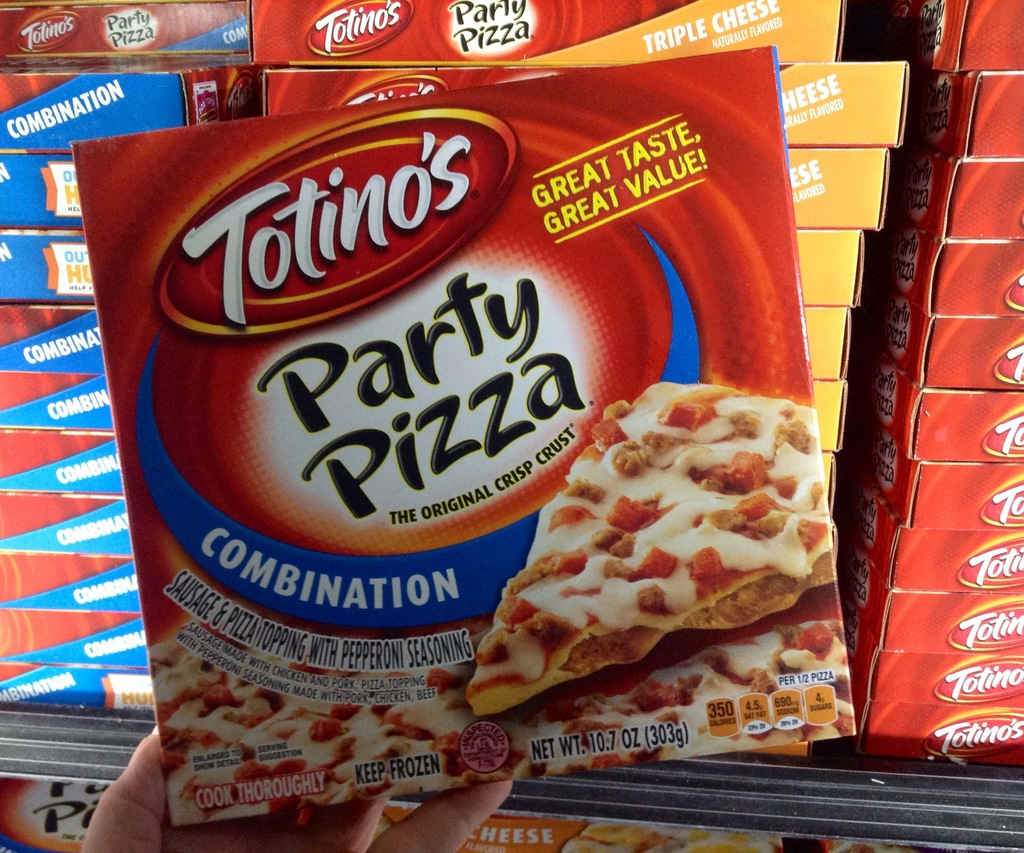Pizza: (460, 370, 846, 716), (163, 621, 856, 781)
